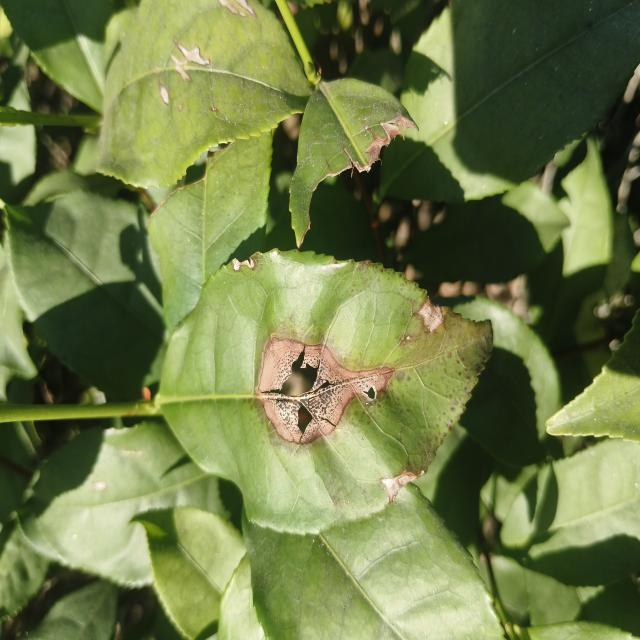Leaf: (159, 251, 491, 533), (380, 0, 640, 202), (244, 484, 502, 640), (98, 0, 311, 187), (5, 190, 168, 401), (22, 419, 226, 586), (149, 134, 272, 329), (501, 439, 640, 585), (451, 297, 562, 467), (527, 138, 613, 349), (407, 182, 569, 283), (0, 0, 137, 113), (134, 506, 246, 639), (546, 309, 640, 442), (29, 581, 118, 640)
